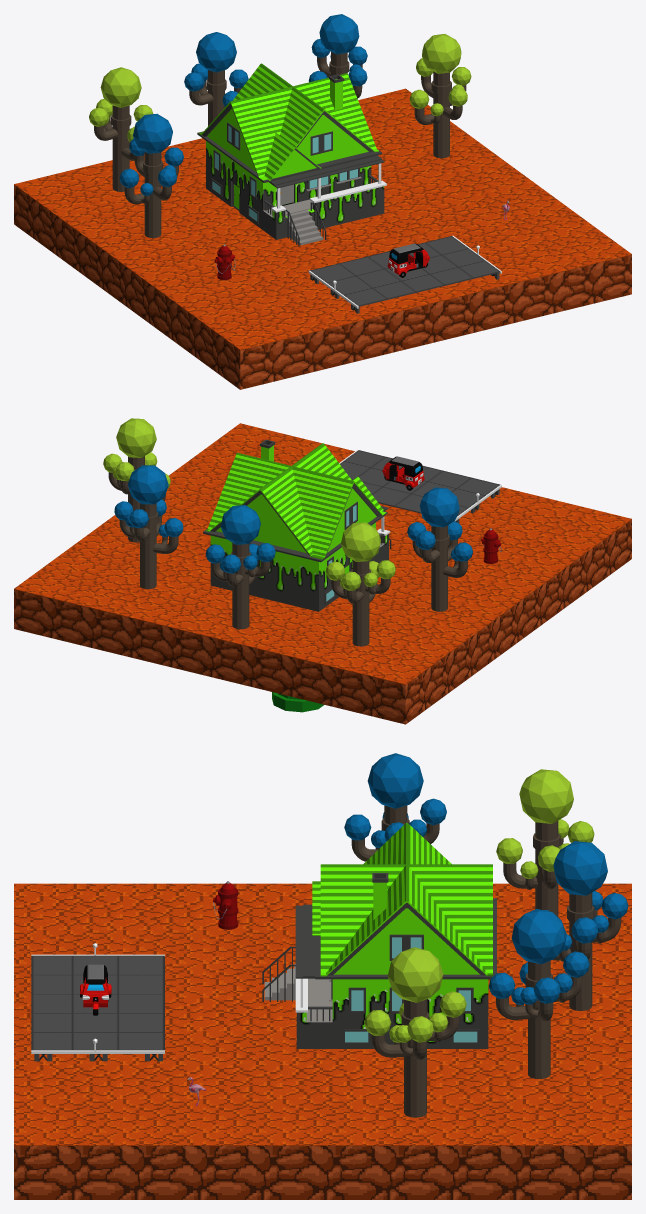
3 renders of one model, top to bottom at view 1: azimuth 30°, elevation 25°; view 2: azimuth 150°, elevation 25°; view 3: azimuth 270°, elevation 25°, orthographic. The views are drawn at different scales.
Visible parts, largest first — view 1: Cube.001, Cube.754, VEHICLES_TUC_TUC, OBJRANDOM_FIRE_HYDRANT; view 2: Cube.001, Cube.754, VEHICLES_TUC_TUC, UNDERGROUND_PIPES, OBJRANDOM_FIRE_HYDRANT; view 3: Cube.001, Cube.754, VEHICLES_TUC_TUC, OBJRANDOM_FIRE_HYDRANT.
Part boxes in pixels (x1,y1,x2,y2): Cube.001: (14, 14, 631, 389); Cube.754: (197, 63, 386, 246); VEHICLES_TUC_TUC: (387, 243, 429, 277); OBJRANDOM_FIRE_HYDRANT: (214, 244, 235, 279); Cube.001: (14, 418, 631, 724); Cube.754: (203, 439, 391, 611); VEHICLES_TUC_TUC: (382, 456, 424, 490); UNDERGROUND_PIPES: (272, 692, 324, 712); OBJRANDOM_FIRE_HYDRANT: (481, 528, 501, 563); Cube.001: (14, 753, 631, 1199); Cube.754: (262, 823, 496, 1048); VEHICLES_TUC_TUC: (80, 964, 111, 1015); OBJRANDOM_FIRE_HYDRANT: (213, 881, 238, 929).
Size of the model in its own units: 4000 by 2247 by 4000.
Materials: 34 (5 with a texture image).
